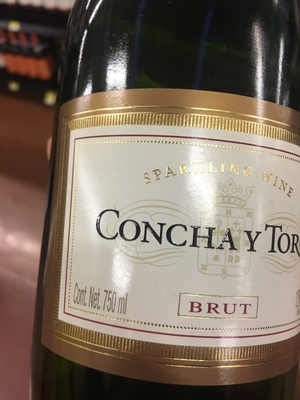brut: (37, 16, 299, 400)
